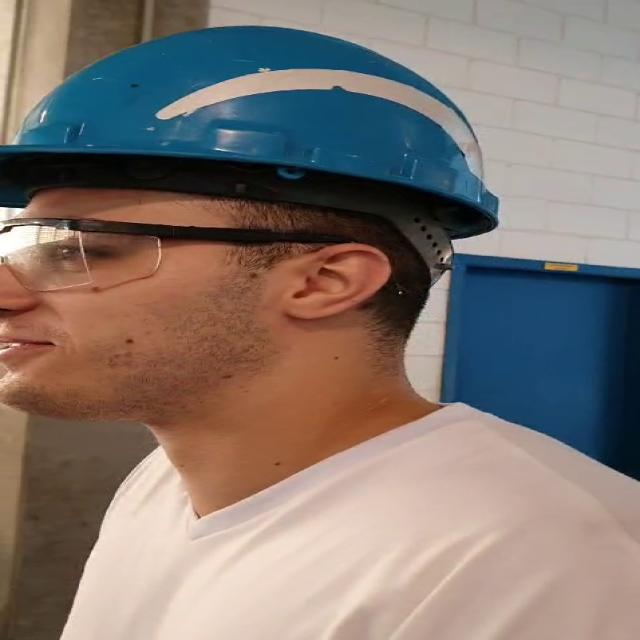oculos-epi: (0, 218, 352, 291)
